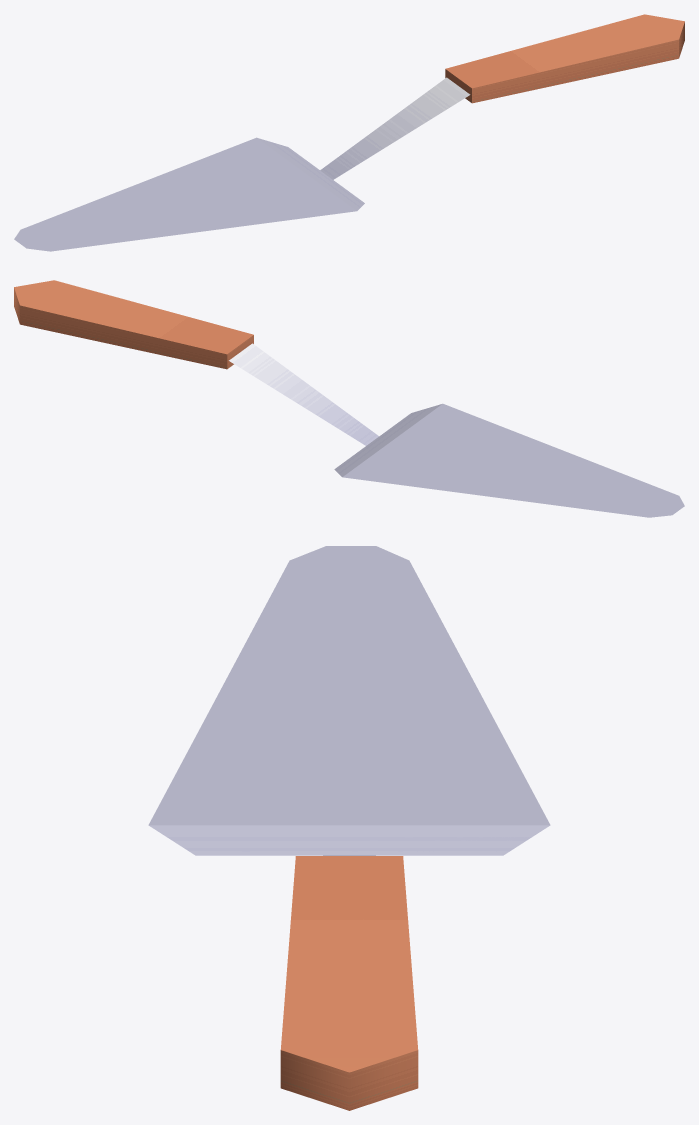
Rendered from kf_cake-slicer.glb.
The picture shows the model from 3 angles, top to bottom: view 1: azimuth 30°, elevation 25°; view 2: azimuth 150°, elevation 25°; view 3: azimuth 270°, elevation 25°; orthographic projection. The views are drawn at different scales.
Visible parts, largest first — view 1: cake-slicer; view 2: cake-slicer; view 3: cake-slicer.
Boxes of the visible parts, x1,y1,x2,y2 form: cake-slicer: (14,14,684,251); cake-slicer: (14,280,684,517); cake-slicer: (148,546,550,1110).
Size of the model in its own units: 0.2112 by 0.0202 by 0.0554.
Materials: 1 (1 with a texture image).
